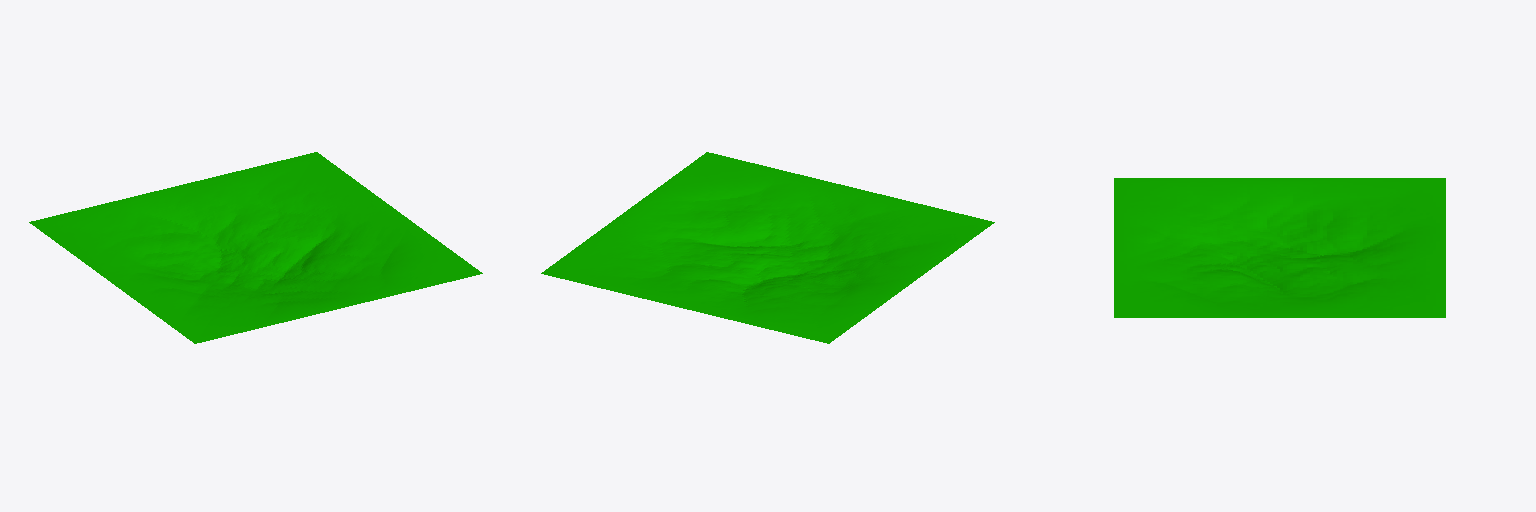
The model's file is land2.obj.
3 views of the same model, side by side, from view 1: azimuth 30°, elevation 25°; view 2: azimuth 150°, elevation 25°; view 3: azimuth 270°, elevation 25° (orthographic).
Parts seen in each view (by area): view 1: land2.obj; view 2: land2.obj; view 3: land2.obj.
Boxes of the visible parts, <box> form: land2.obj: <box>29,152,482,343</box>; land2.obj: <box>541,152,994,343</box>; land2.obj: <box>1114,178,1445,317</box>.
Bounding box in the file's own units: 3147 × 168 × 3147.